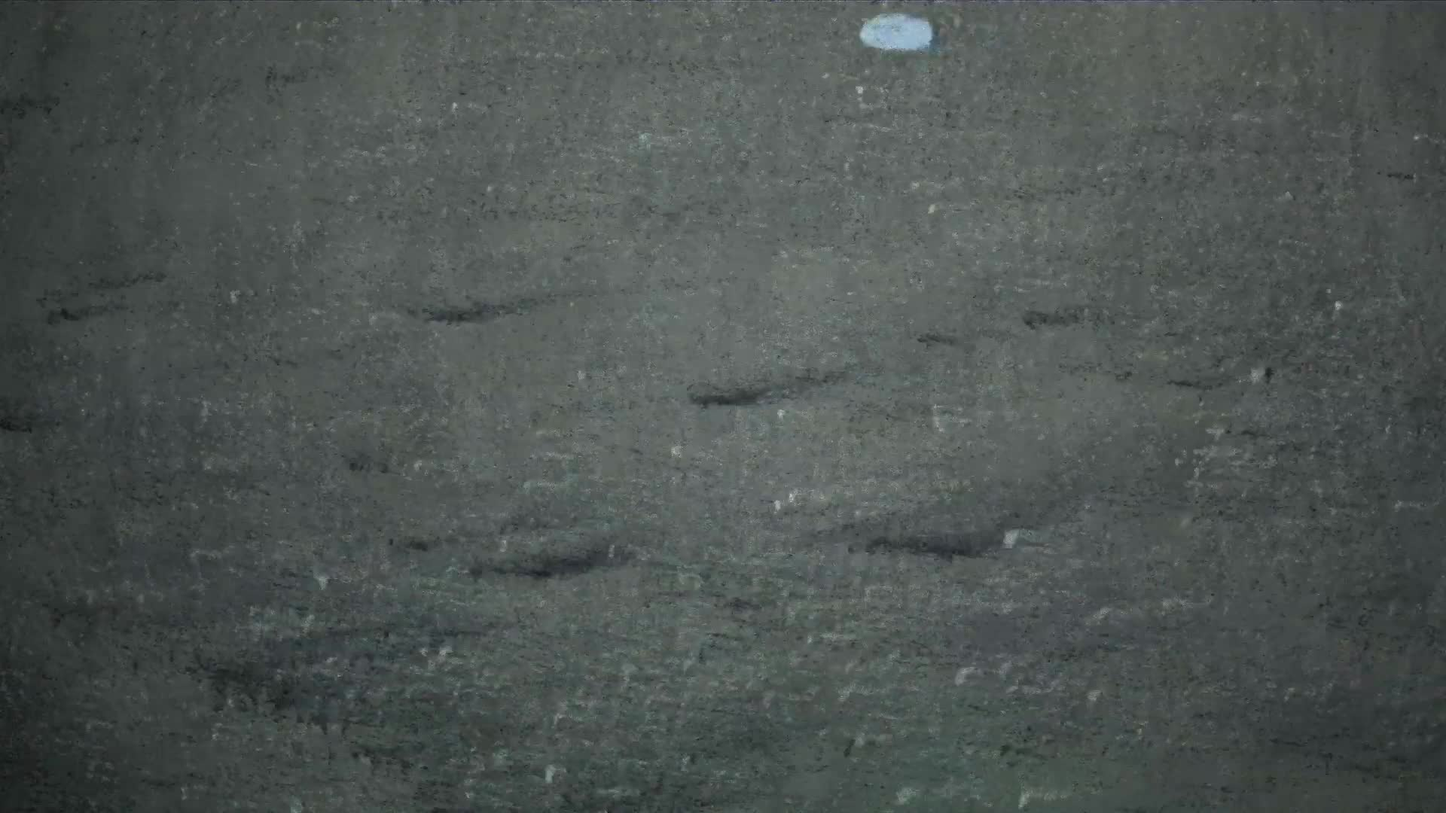Target: (857, 10, 939, 59)
